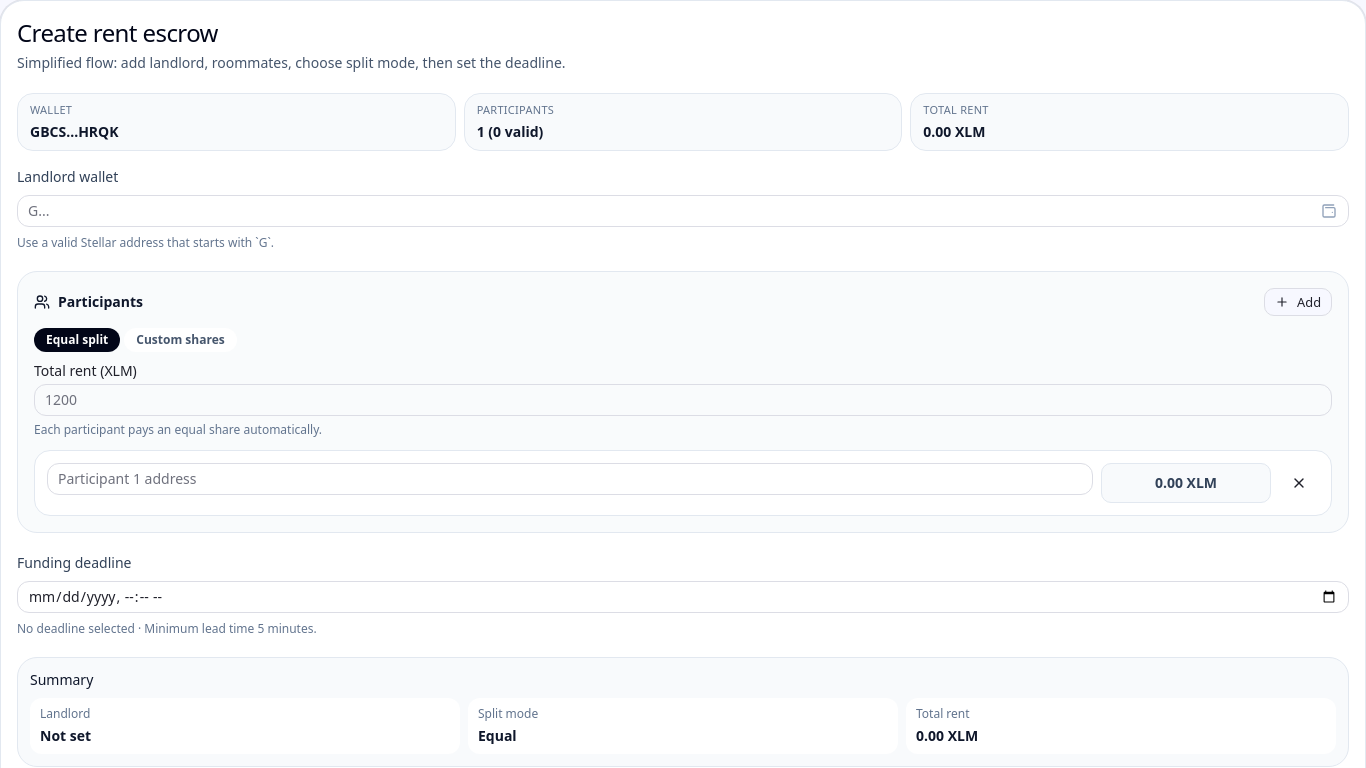
Test: CreateEscrowForm › supports adding and removing participants
Click the button "Add": (1298, 302) [1264,288,1332,316]
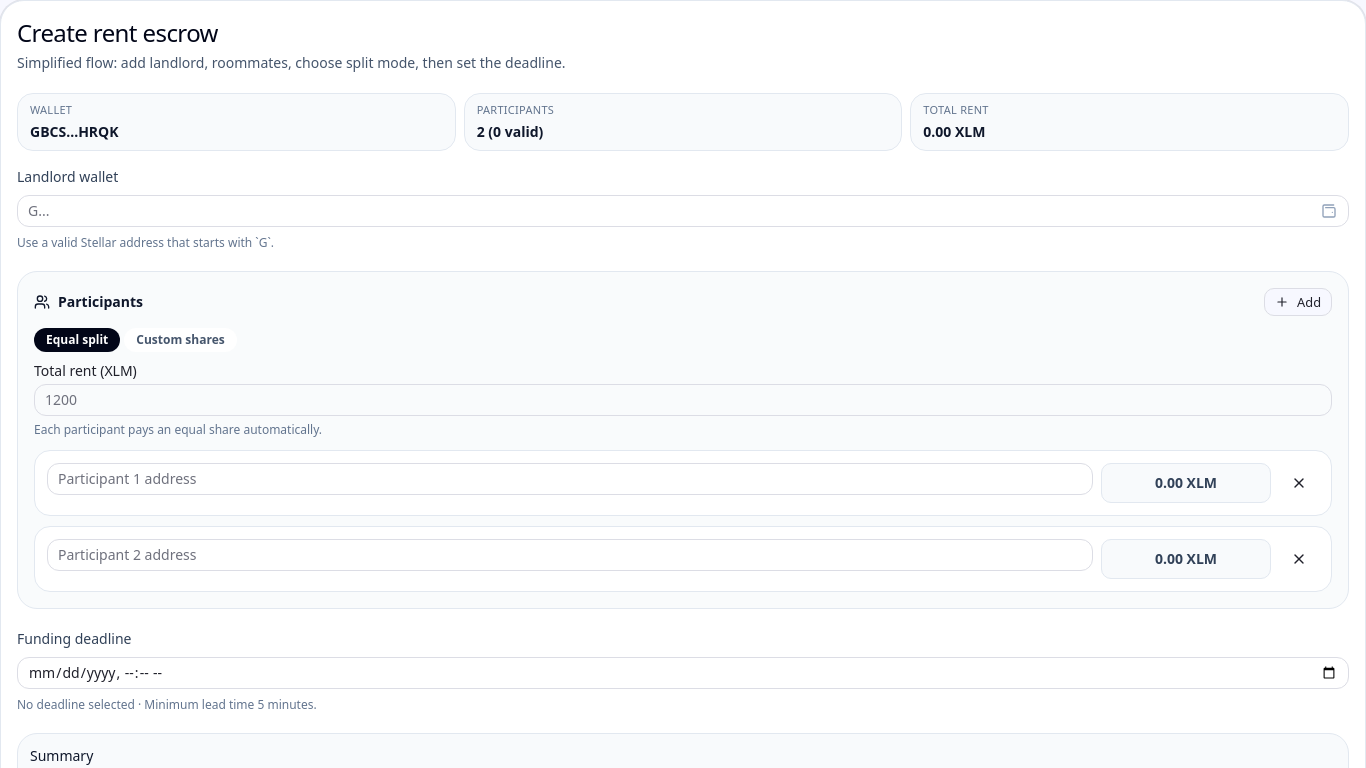
expect the number of fields with placeholder "Participant 1 address" is 2: met, box [47,463,1093,495]; [47,539,1093,571]
Click the 5th button: (1299, 559) [1279,539,1319,579]
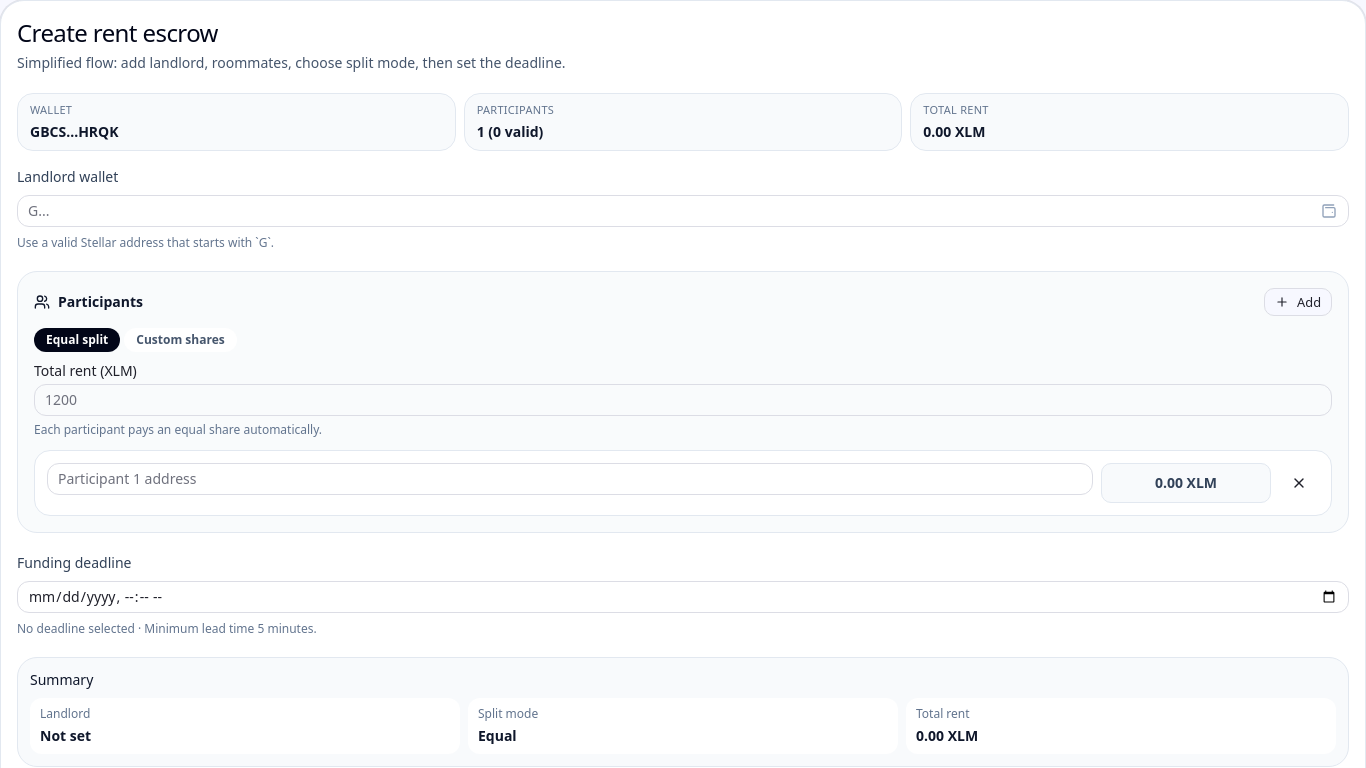
expect the number of fields with placeholder "Participant 1 address" is 1: met, box [47,463,1093,495]
